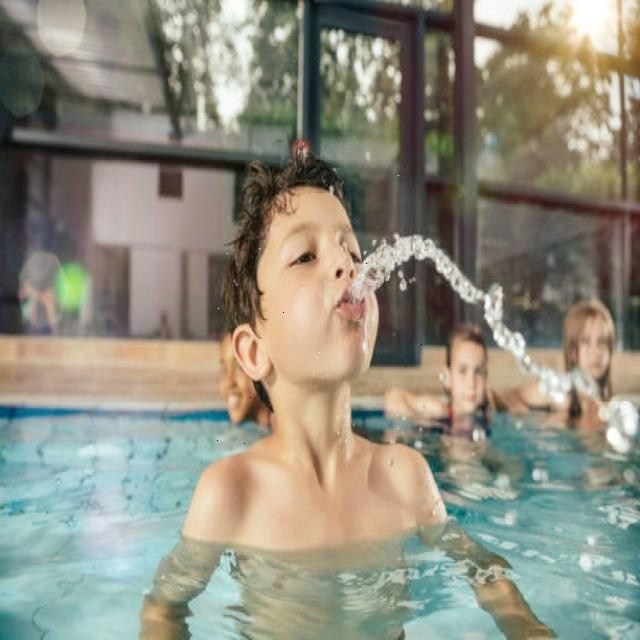Spitting: (217, 160, 428, 487)
